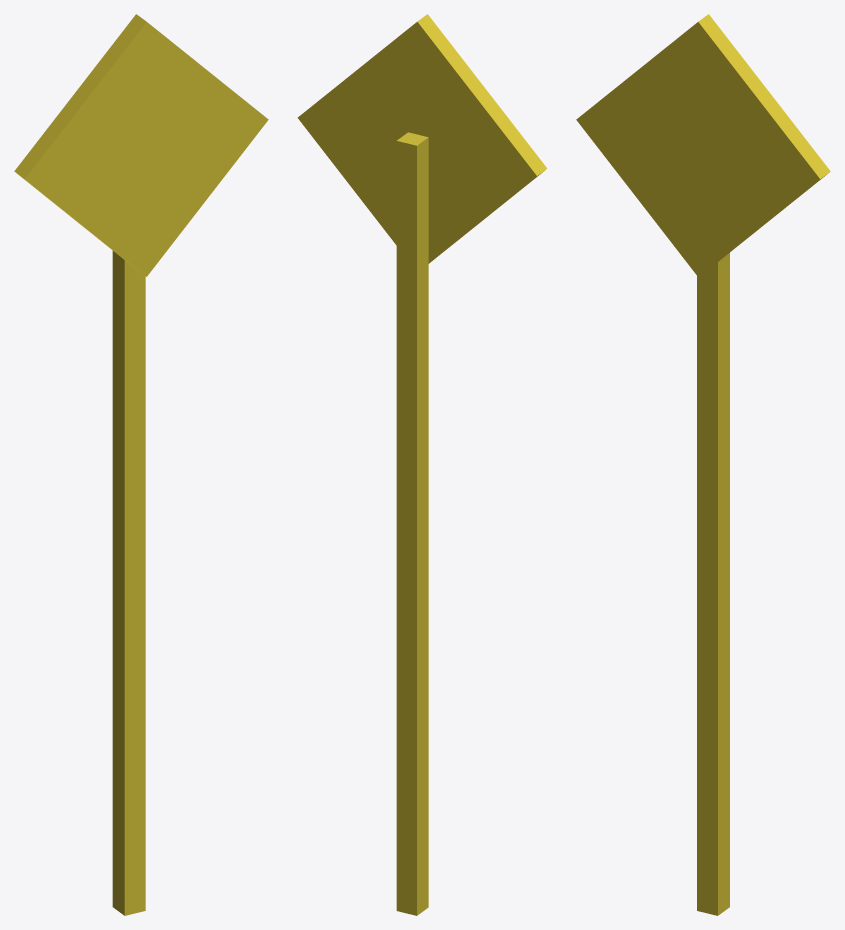
Rendered from Placa.fbx.
The picture shows the model from 3 angles, left to right: view 1: azimuth 30°, elevation 25°; view 2: azimuth 150°, elevation 25°; view 3: azimuth 330°, elevation 25°; orthographic projection.
Parts seen in each view (by area): view 1: Placa de Transito; view 2: Placa de Transito; view 3: Placa de Transito.
Boxes of the visible parts, x1,y1,x2,y2 form: Placa de Transito: (14, 14, 268, 915); Placa de Transito: (297, 14, 547, 915); Placa de Transito: (576, 14, 830, 915).
Size of the model in its own units: 67.12 by 236 by 10.69.
